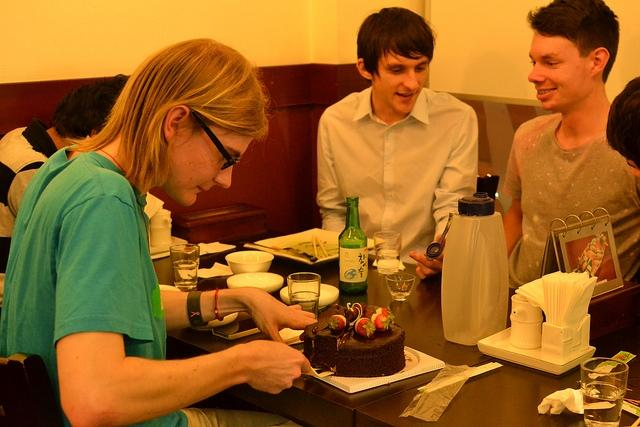strawberry: (352, 318, 376, 338), (370, 313, 390, 332), (328, 315, 345, 330), (381, 306, 395, 319)
